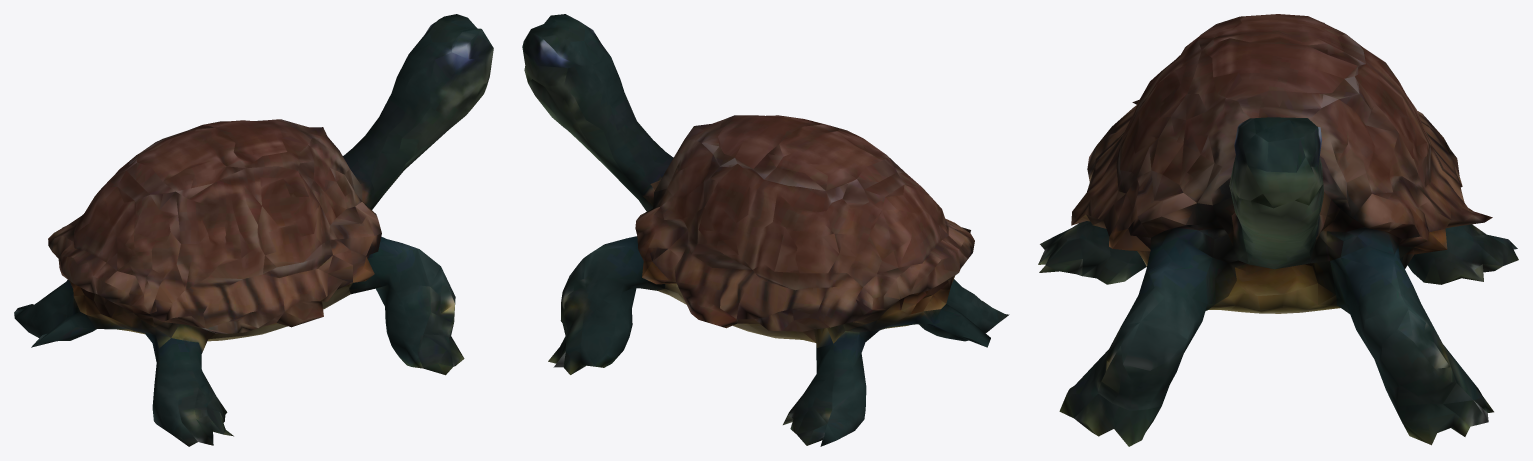
File: turtle.glb
3 renders of one model, left to right at view 1: azimuth 30°, elevation 25°; view 2: azimuth 150°, elevation 25°; view 3: azimuth 270°, elevation 25°, orthographic. The views are drawn at different scales.
Visible parts, largest first — view 1: Turtle; view 2: Turtle; view 3: Turtle.
Boxes of the visible parts, x1,y1,x2,y2 form: Turtle: (14, 14, 493, 446); Turtle: (522, 14, 1009, 446); Turtle: (1038, 14, 1518, 446).
Bounding box in the file's own units: 0.9892 × 0.5694 × 0.6864.
1 material, 1 textured.
